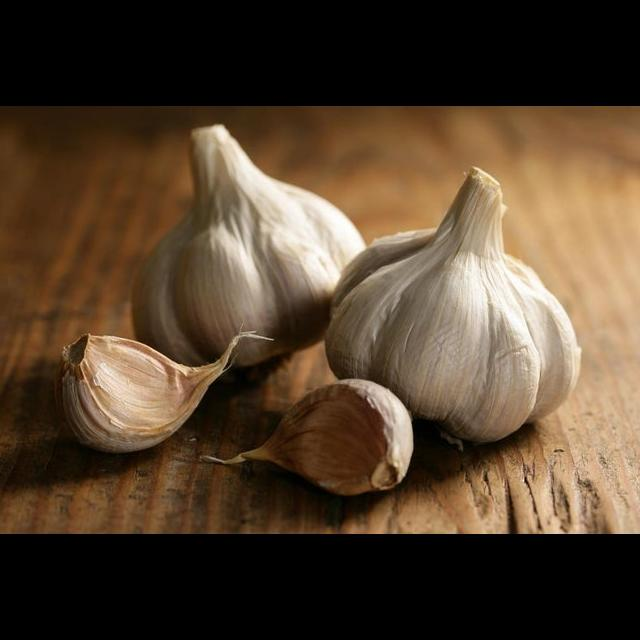garlic: (38, 120, 586, 506)
